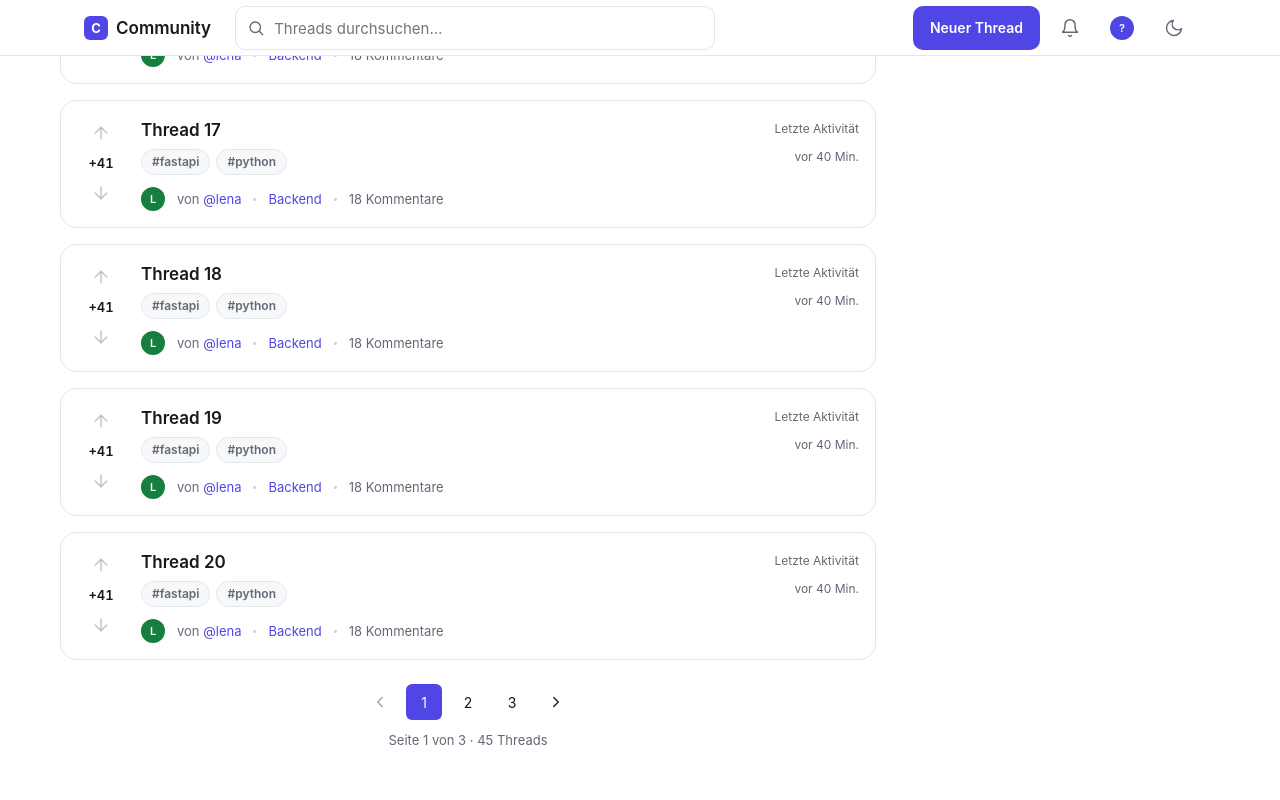
Test: forum tag page › pages through the feed and keeps the total in the info line
(page scrolled)
Expected: the text "Seite 1 von 3 · 45 Threads" is shown, [388,728,548,752]
Click the button named "Weiter" at coordinates (556, 702), box [538,684,574,720]
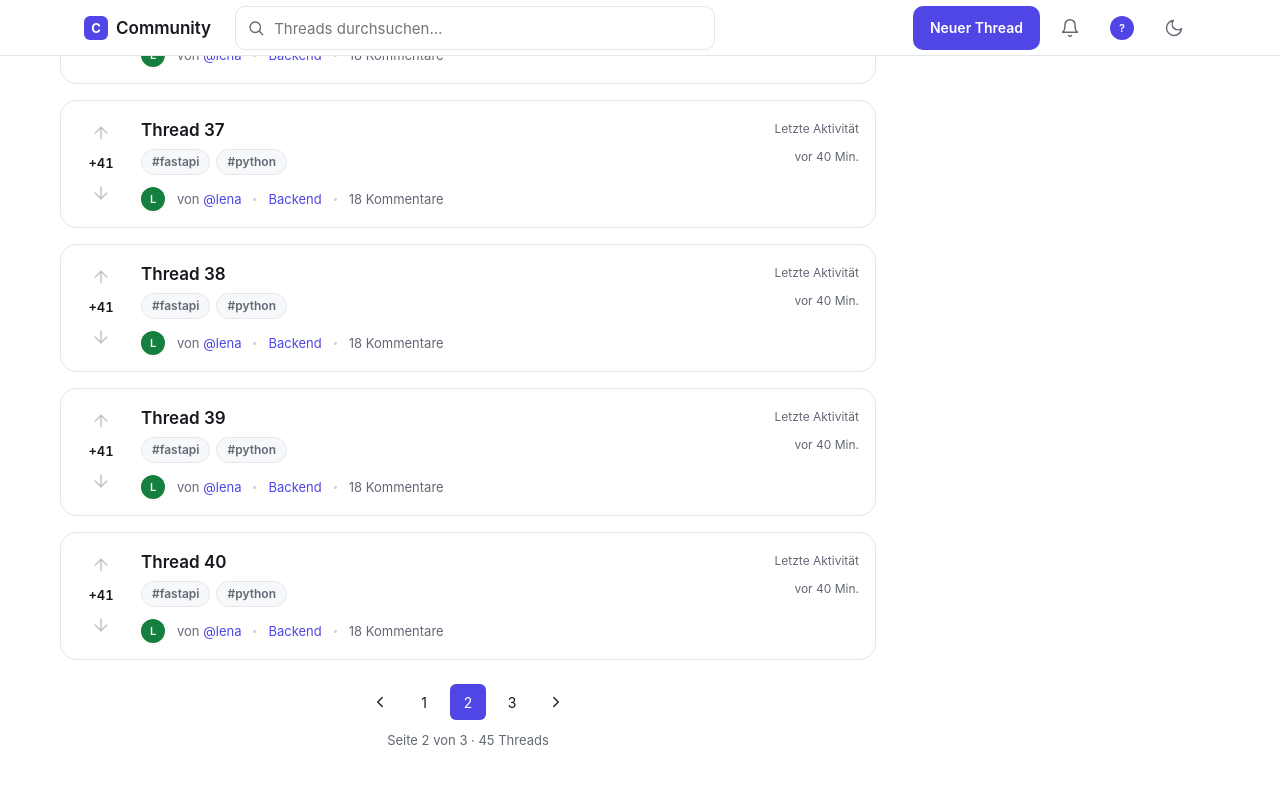
Expected: the text "Seite 2 von 3 · 45 Threads" is shown, [387,728,549,752]
